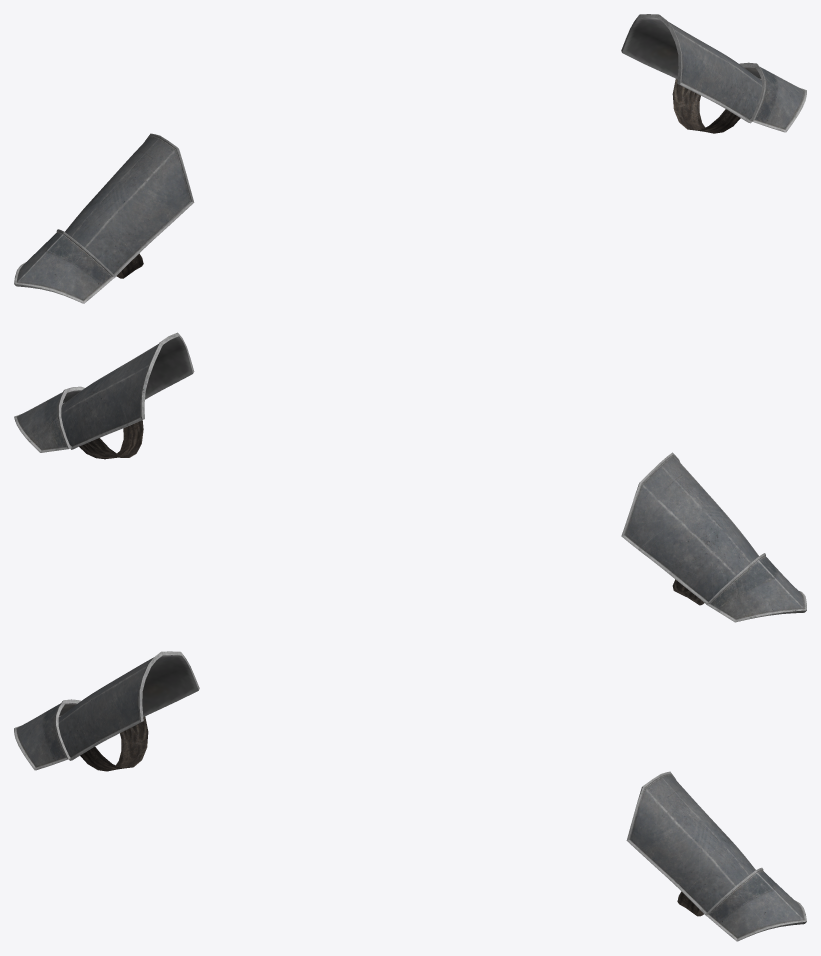
File: sk_dwarf_erebor_bracers_med_c.fbx
3 views of the same model, one above another, from view 1: azimuth 30°, elevation 25°; view 2: azimuth 150°, elevation 25°; view 3: azimuth 330°, elevation 25° (orthographic).
Parts seen in each view (by area): view 1: sk_dwarf_erebor_bracers_med_c.0, sk_dwarf_erebor_bracers_med_c.1; view 2: sk_dwarf_erebor_bracers_med_c.0, sk_dwarf_erebor_bracers_med_c.1; view 3: sk_dwarf_erebor_bracers_med_c.0, sk_dwarf_erebor_bracers_med_c.1.
Part boxes in pixels (x1,y1,x2,y2): sk_dwarf_erebor_bracers_med_c.0: (14, 14, 806, 303); sk_dwarf_erebor_bracers_med_c.1: (116, 79, 740, 278); sk_dwarf_erebor_bracers_med_c.0: (14, 332, 806, 622); sk_dwarf_erebor_bracers_med_c.1: (79, 420, 704, 605); sk_dwarf_erebor_bracers_med_c.0: (14, 651, 806, 941); sk_dwarf_erebor_bracers_med_c.1: (80, 716, 703, 916).
Bounding box in the file's own units: 1.35 × 0.1646 × 0.2085.
Materials: 2 (2 with a texture image).
